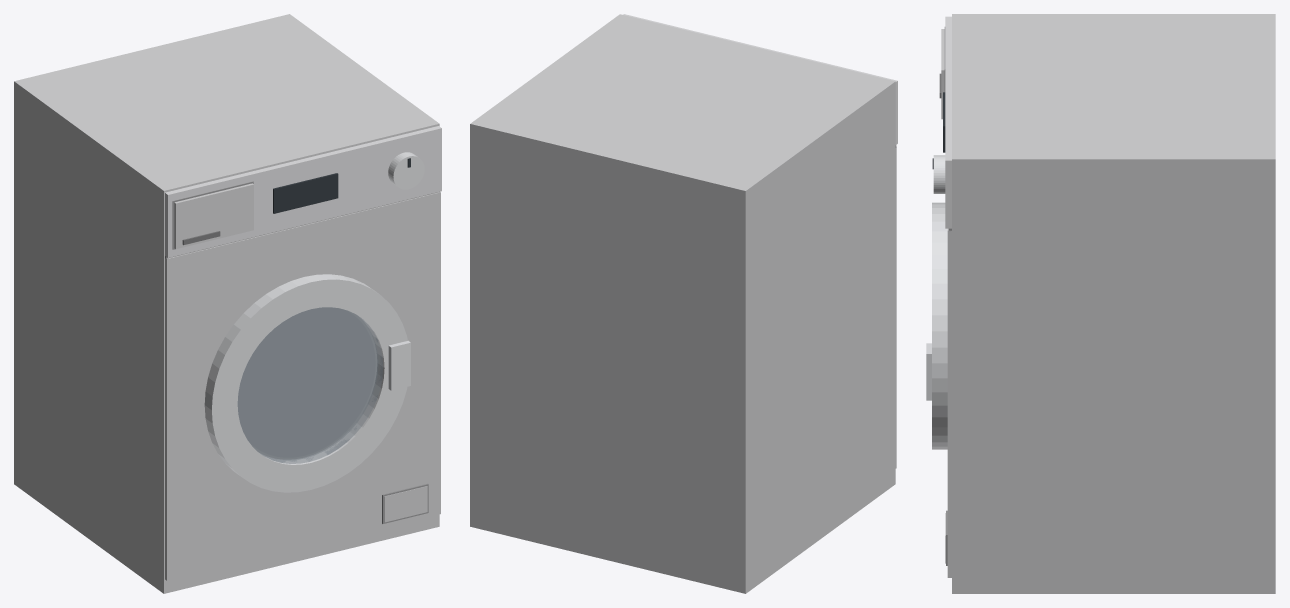
Rendered from waschmaschine.glb.
The picture shows the model from 3 angles, left to right: view 1: azimuth 30°, elevation 25°; view 2: azimuth 150°, elevation 25°; view 3: azimuth 270°, elevation 25°; orthographic projection. The views are drawn at different scales.
Visible parts, largest first — view 1: Gehäuse, Chrom, Glas, Trommel, Bedienblende, Display, Fuge; view 2: Gehäuse, Bedienblende; view 3: Gehäuse, Chrom, Bedienblende.
Boxes of the visible parts, box(x1,y1,x2,y2) form: Gehäuse: box(14, 14, 440, 593); Chrom: box(204, 152, 424, 492); Glas: box(237, 307, 383, 463); Trommel: box(238, 307, 375, 457); Bedienblende: box(165, 126, 441, 257); Display: box(273, 158, 410, 213); Fuge: box(165, 181, 439, 523); Gehäuse: box(470, 14, 896, 593); Bedienblende: box(623, 14, 897, 144); Gehäuse: box(941, 14, 1275, 593); Chrom: box(926, 155, 947, 449); Bedienblende: box(945, 16, 951, 228).
Bounding box in the file's own units: 0.6 × 0.85 × 0.61.
